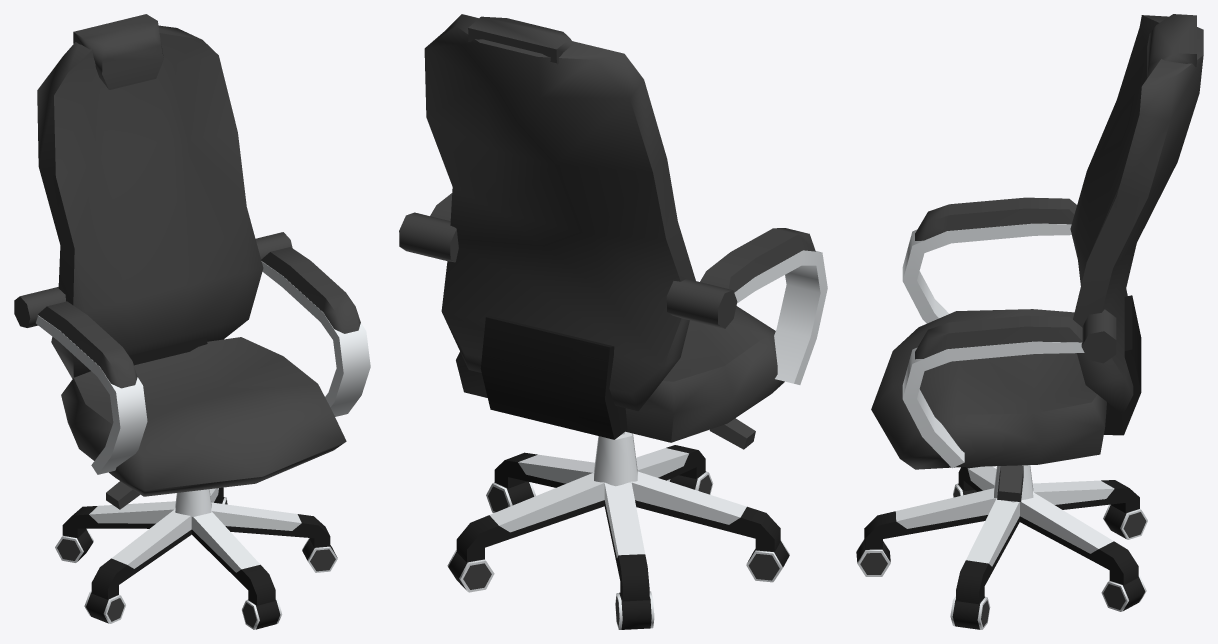
Rendered from office_chair_001.glb.
3 views of the same model, side by side, from view 1: azimuth 30°, elevation 25°; view 2: azimuth 150°, elevation 25°; view 3: azimuth 270°, elevation 25° (orthographic). The views are drawn at different scales.
Visible parts, largest first — view 1: office_chair_001; view 2: office_chair_001; view 3: office_chair_001.
Part boxes in pixels (x1,y1,x2,y2): office_chair_001: [14, 14, 370, 629]; office_chair_001: [399, 14, 827, 629]; office_chair_001: [856, 14, 1203, 629].
Bounding box in the file's own units: 0.655 × 1.17 × 0.6889.
Materials: 1 (1 with a texture image).
